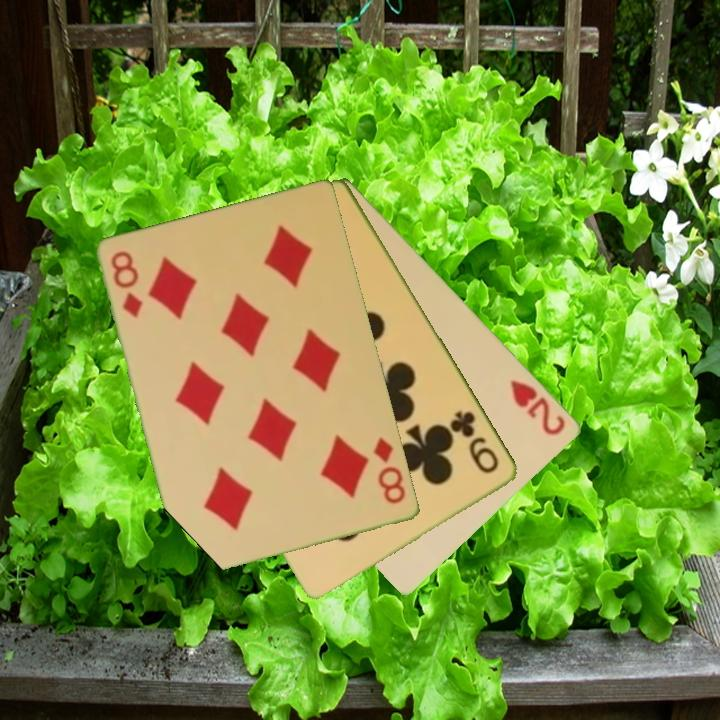2h: (507, 376, 569, 439)
8d: (107, 247, 146, 322), (370, 434, 409, 507)
9c: (447, 407, 503, 477)
